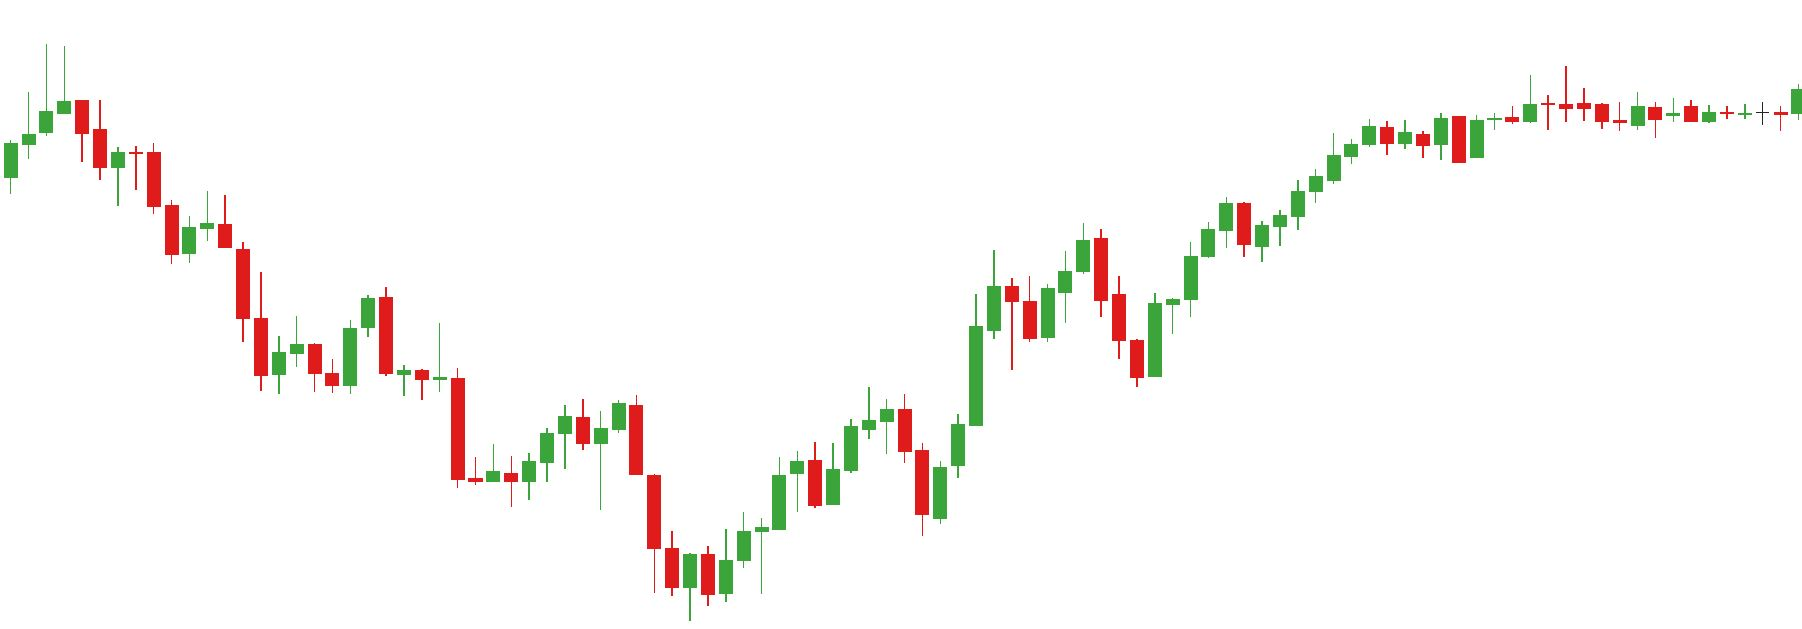buy: (1003, 261, 1165, 386), (791, 437, 950, 543)
